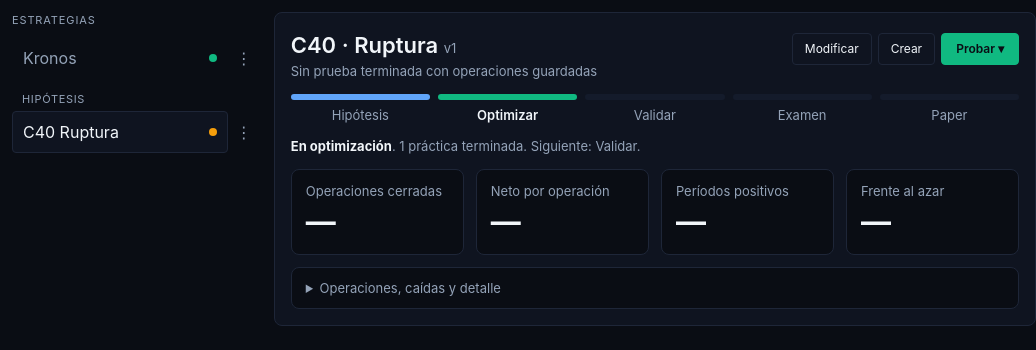
it: StrategiesPage menu › closes the options menu through outside without changing the registry
Expected: the navigation bar named "Lista de estrategias" is shown, [12,12,258,153]
Click the button named "Opciones de C40 Ruptura" at [244, 132], box [230,111,258,153]
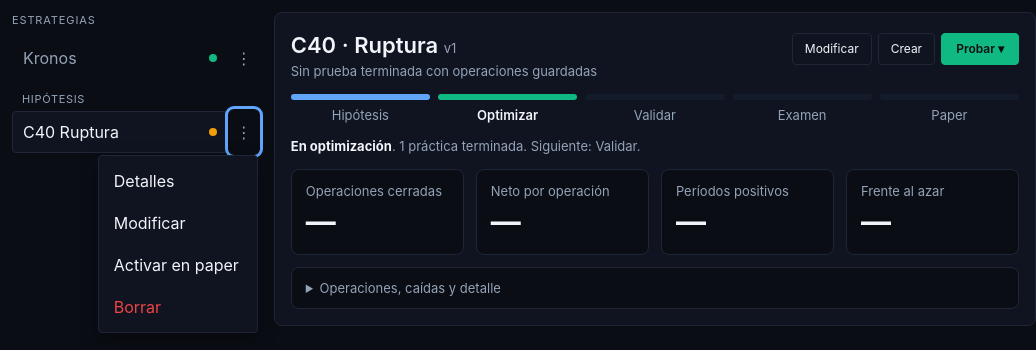
Click the element with test id "strategy-pane" at [655, 169], box [274,12,1035,326]
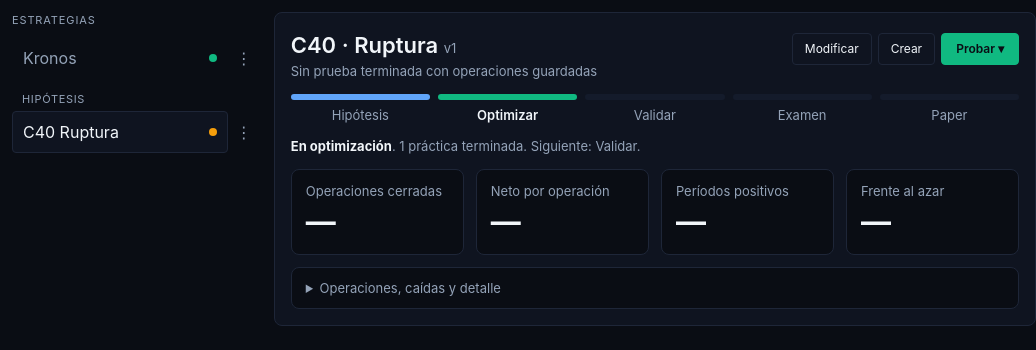
Now the menu is gone
